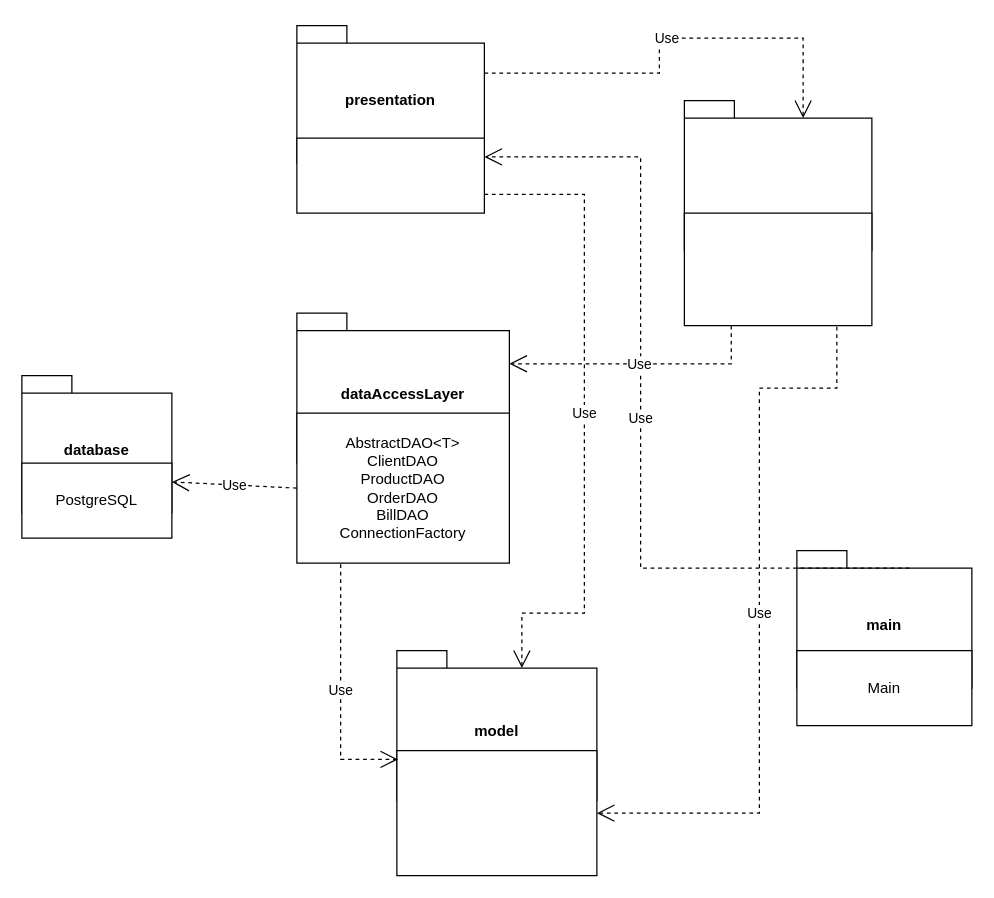
Some shapes in this 994 by 898 pixel diagram are drawn without their labels. Here are the shapes that lost their labels. From the top down, the centre of each, then its label:
At point 390,175: "MainFrame ReflectionTableModel".
At point 777,175: "businessLayer".
At point 777,269: "ClientBLL ProductBLL OrderBLL BillBLL".
At point 496,812: "Client Product Orders Bill".
